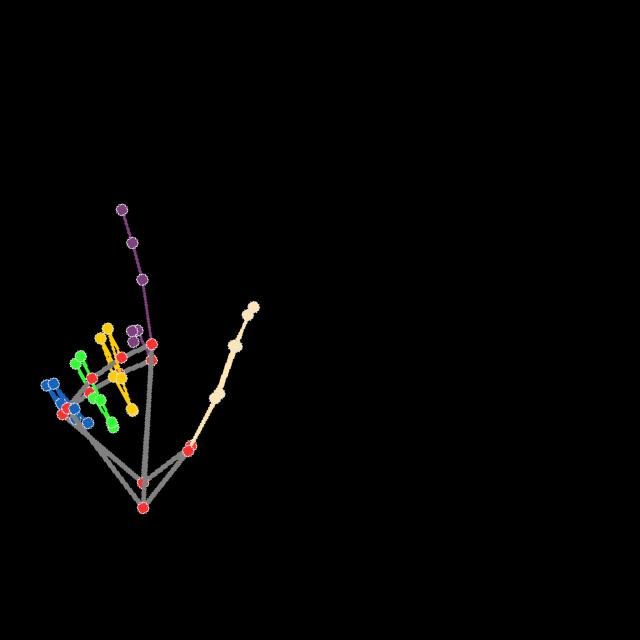gun: (38, 202, 261, 517)
